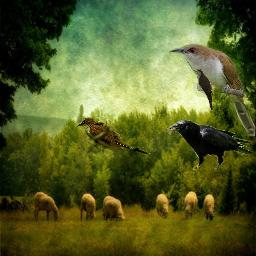Crow: (166, 120, 252, 170)
Cuckoo: (169, 44, 255, 136), (77, 117, 151, 155), (193, 69, 214, 111)
